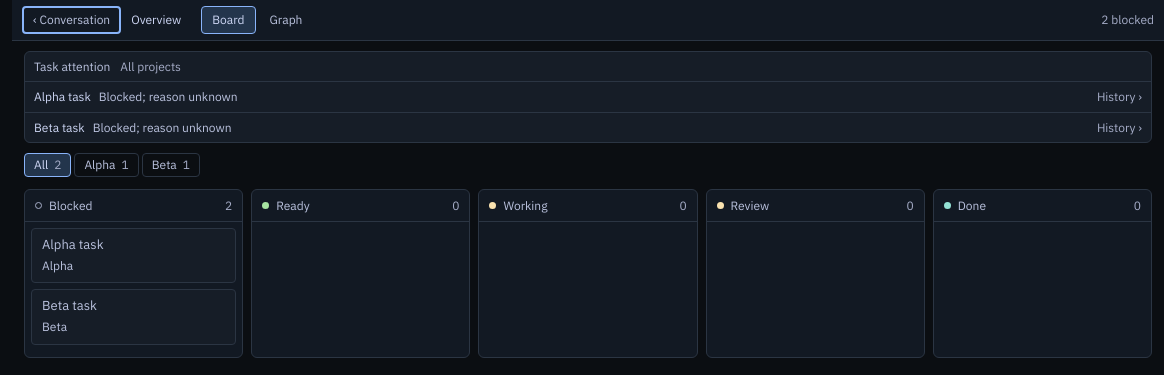
Test case: keeps attention explicitly root-wide while the Board project filter changes and Graph is shown
This screenshot has width=1164, height=375.
Expected: the element named "Task attention" shows "All projects", [120, 59, 181, 74]
Click the button "Alpha 1": x=107, y=165 [74, 153, 139, 177]
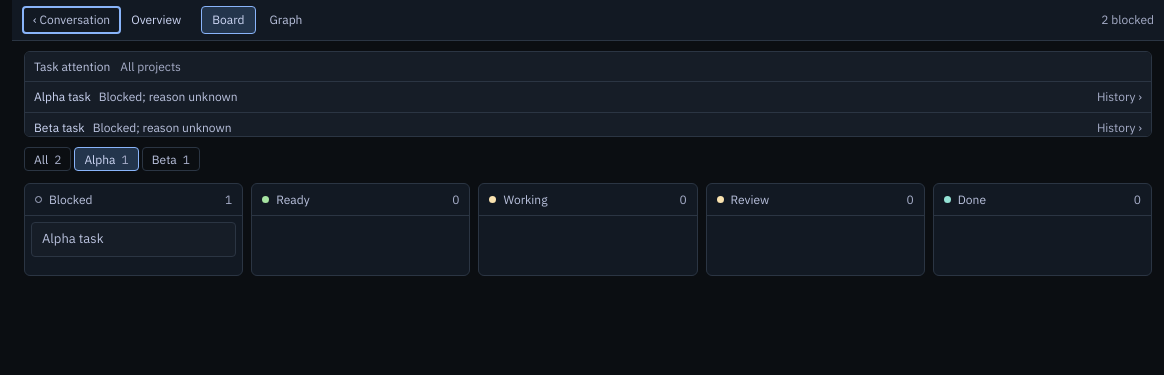
Expected: the button with class "liaison-card-open" is shown, [32, 224, 235, 256]
Expected: the button "Alpha task Blocked; reason unknown History ›" is shown, [25, 82, 1151, 112]
Click the button "Graph": x=286, y=20 [258, 6, 313, 34]
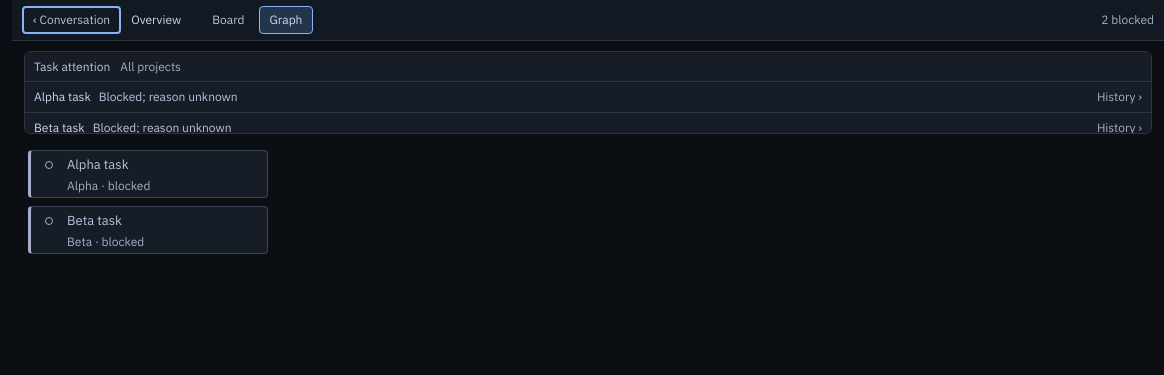
Expected: the element named "Task attention" shows "All projects", [120, 59, 181, 74]
Now the element named "Project" is gone
